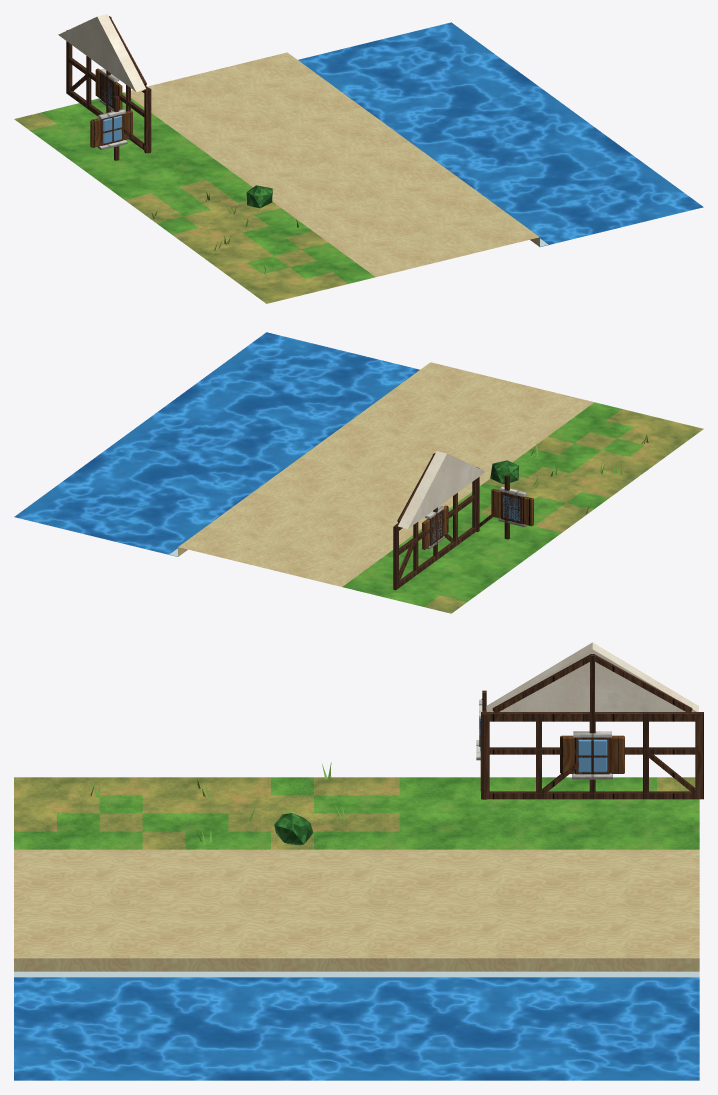
Rendered from chunk_11_6.glb.
The picture shows the model from 3 angles, top to bottom: view 1: azimuth 30°, elevation 25°; view 2: azimuth 150°, elevation 25°; view 3: azimuth 270°, elevation 25°; orthographic projection. The views are drawn at different scales.
Visible parts, largest first — view 1: chunk_11_6; view 2: chunk_11_6; view 3: chunk_11_6.
Boxes of the visible parts, box(x1,y1,x2,y2) form: chunk_11_6: box(14, 14, 703, 303); chunk_11_6: box(14, 332, 703, 613); chunk_11_6: box(14, 642, 703, 1080).
Size of the model in its own units: 16.09 by 4.57 by 16.1.
Materials: 12 (9 with a texture image).
